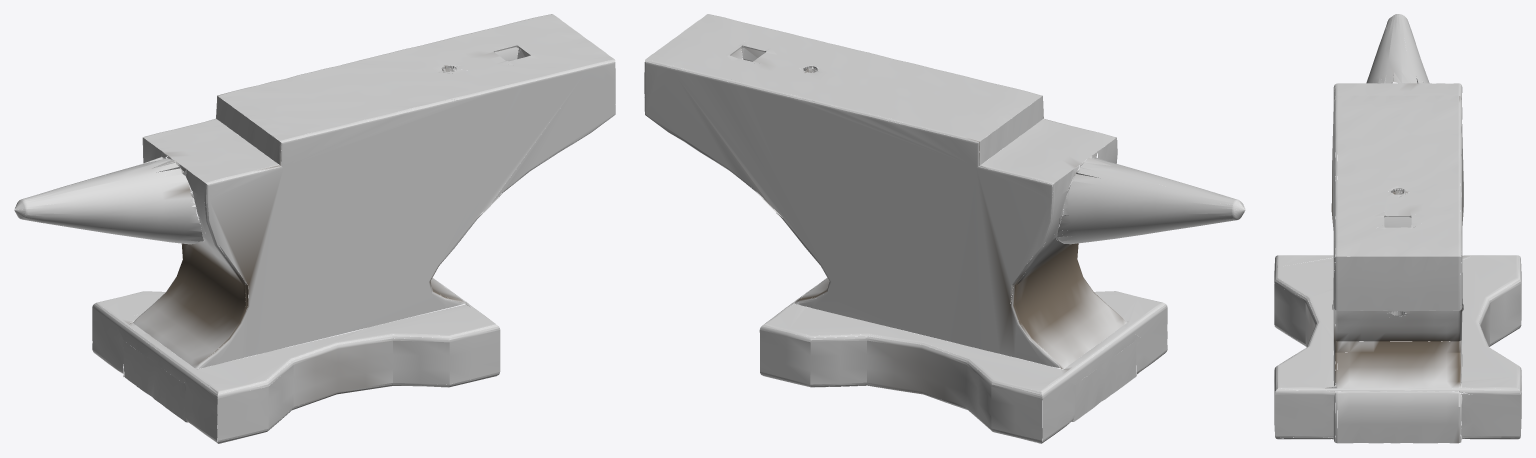
File: nakovalnya.glb
3 views of the same model, side by side, from view 1: azimuth 30°, elevation 25°; view 2: azimuth 150°, elevation 25°; view 3: azimuth 270°, elevation 25° (orthographic).
Parts seen in each view (by area): view 1: nakovalnya; view 2: nakovalnya; view 3: nakovalnya.
Part boxes in pixels (x1,y1,x2,y2): nakovalnya: [14, 14, 615, 443]; nakovalnya: [644, 14, 1245, 443]; nakovalnya: [1274, 14, 1521, 443].
Bounding box in the file's own units: 0.7074 × 0.3084 × 0.2702.
